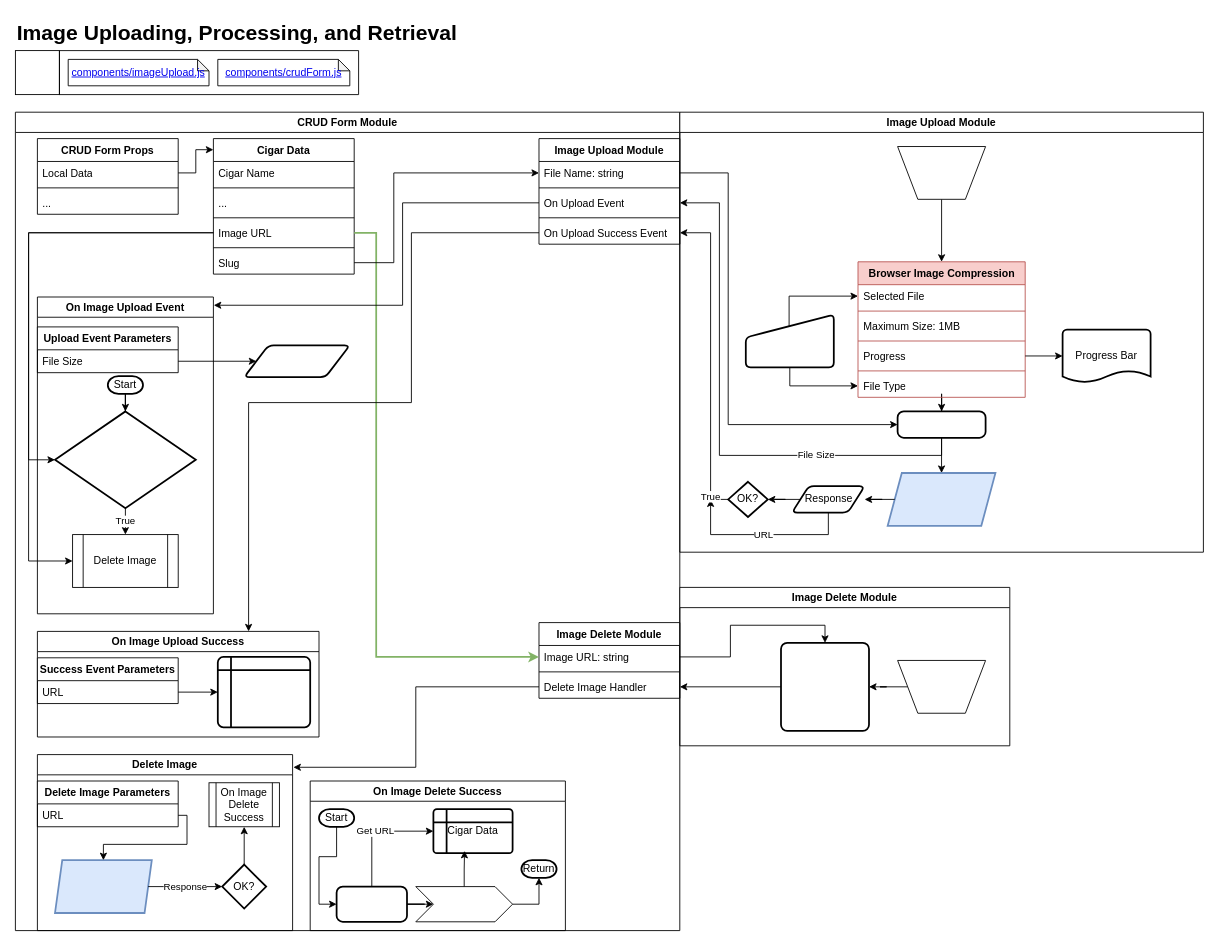
Image size: 1219x946. Some labels were removed from this diagram. The shapes that lost their labels are listed below. From the top down, each one's centre as x and y in pixels, then its label:
At [37,72]: "Related Files:".
At [941,172]: "Upload Button".
At [789,340]: "File Selection".
At [296,361]: "Initial File Size".
At [941,424]: "Create Fixed File".
At [125,459]: "Does Local Data already have Image?".
At [941,499]: "Fetch /api/uploadImage Method: POST".
At [263,692]: "Cigar Data: Image URL".
At [824,686]: "Await Delete Image Handler".
At [941,686]: "Delete Button".
At [103,886]: "Fetch /api/deleteImage Method: DELETE".
At [371,903]: "Remove Image URL".
At [464,904]: "Update Data".
